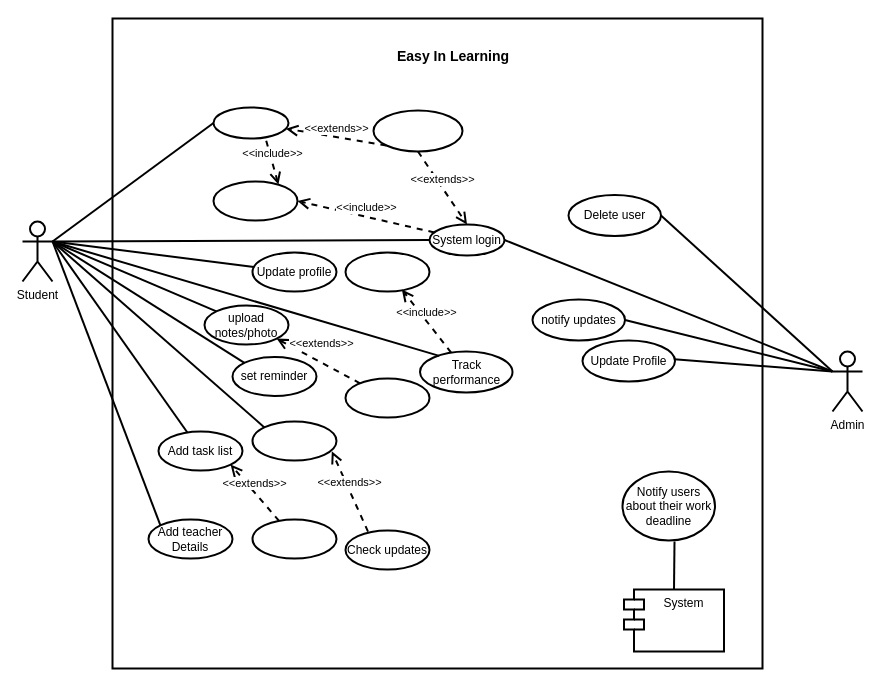
This 882x686 diagram has some shape labels left out. Here are the shapes that lost their labels. From the top down, the box of each, then its label:
(212, 106, 289, 139): Register
(372, 109, 463, 152): Display error message
(212, 180, 298, 221): User's details
(344, 251, 430, 292): Generate report
(344, 377, 430, 418): View notes/photo
(251, 420, 337, 461): Share File
(251, 518, 337, 559): Check work done
